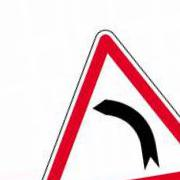left: (36, 28, 180, 179)
